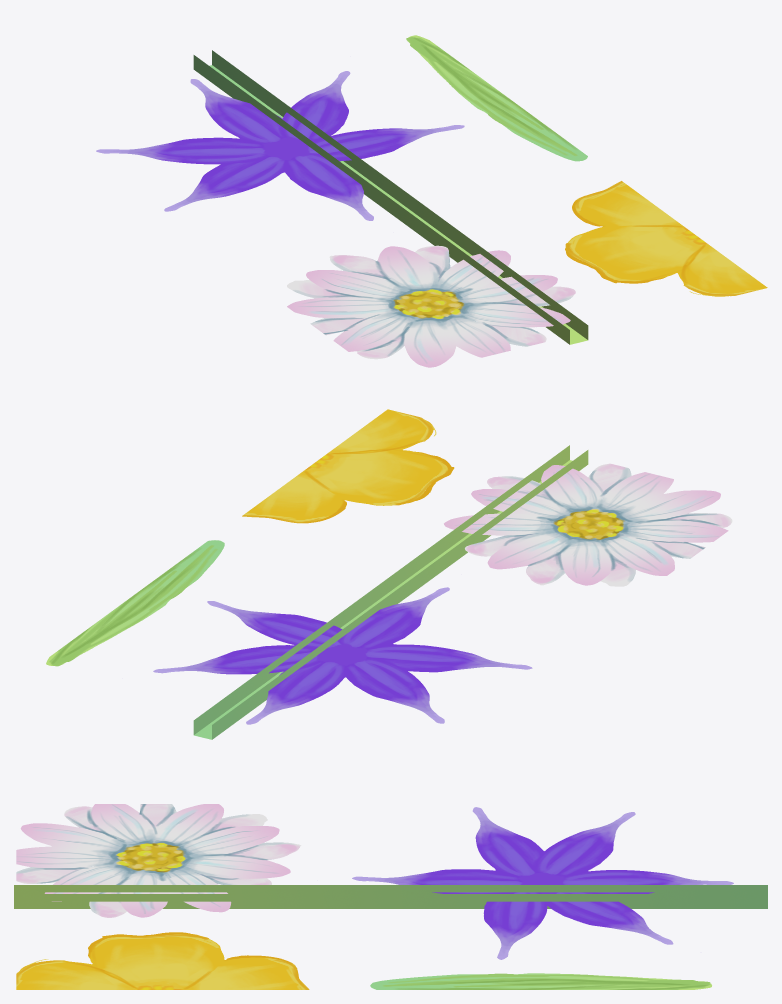
Rendered from ceiling.fbx.
3 views of the same model, one above another, from view 1: azimuth 30°, elevation 25°; view 2: azimuth 150°, elevation 25°; view 3: azimuth 270°, elevation 25° (orthographic).
Visible parts, largest first — view 1: Ceiling, CeilingBeam; view 2: Ceiling, CeilingBeam; view 3: Ceiling, CeilingBeam.
Boxes of the visible parts, box(x1,y1,x2,y2) form: Ceiling: box(96, 35, 767, 367); CeilingBeam: box(193, 50, 588, 344); Ceiling: box(46, 409, 732, 724); CeilingBeam: box(193, 445, 588, 739); Ceiling: box(16, 804, 733, 989); CeilingBeam: box(14, 885, 767, 908).
Size of the model in its own units: 642 by 24.18 by 1101.
